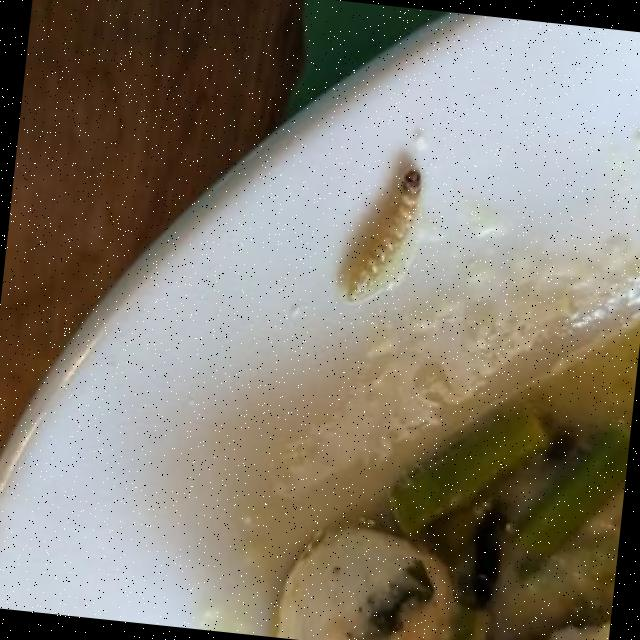worm: (338, 153, 434, 317)
